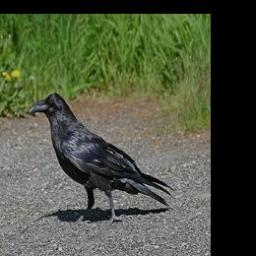Crow: (29, 92, 177, 228)
